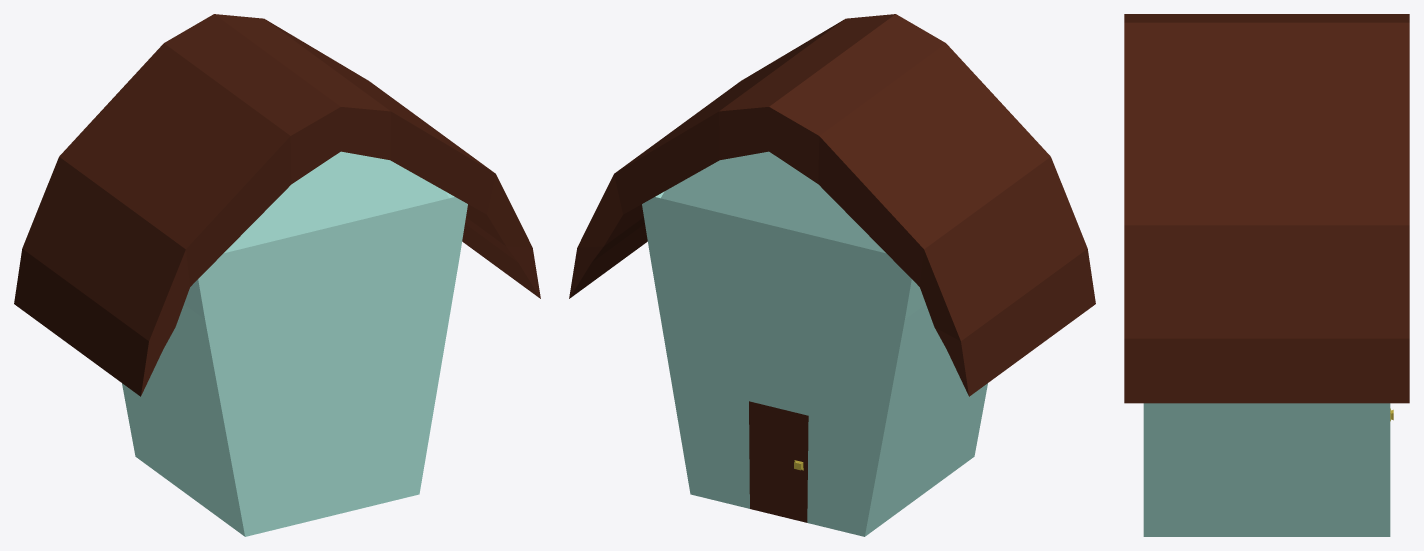
File: CasaMarina.fbx
3 views of the same model, side by side, from view 1: azimuth 30°, elevation 25°; view 2: azimuth 150°, elevation 25°; view 3: azimuth 270°, elevation 25° (orthographic). The views are drawn at different scales.
Visible parts, largest first — view 1: Casa; view 2: Casa; view 3: Casa.
Part boxes in pixels (x1=…): Casa: x1=14, y1=14, x2=540, y2=536; Casa: x1=569, y1=14, x2=1095, y2=536; Casa: x1=1124, y1=14, x2=1409, y2=536.
Size of the model in its own units: 1061 by 1051 by 582.
